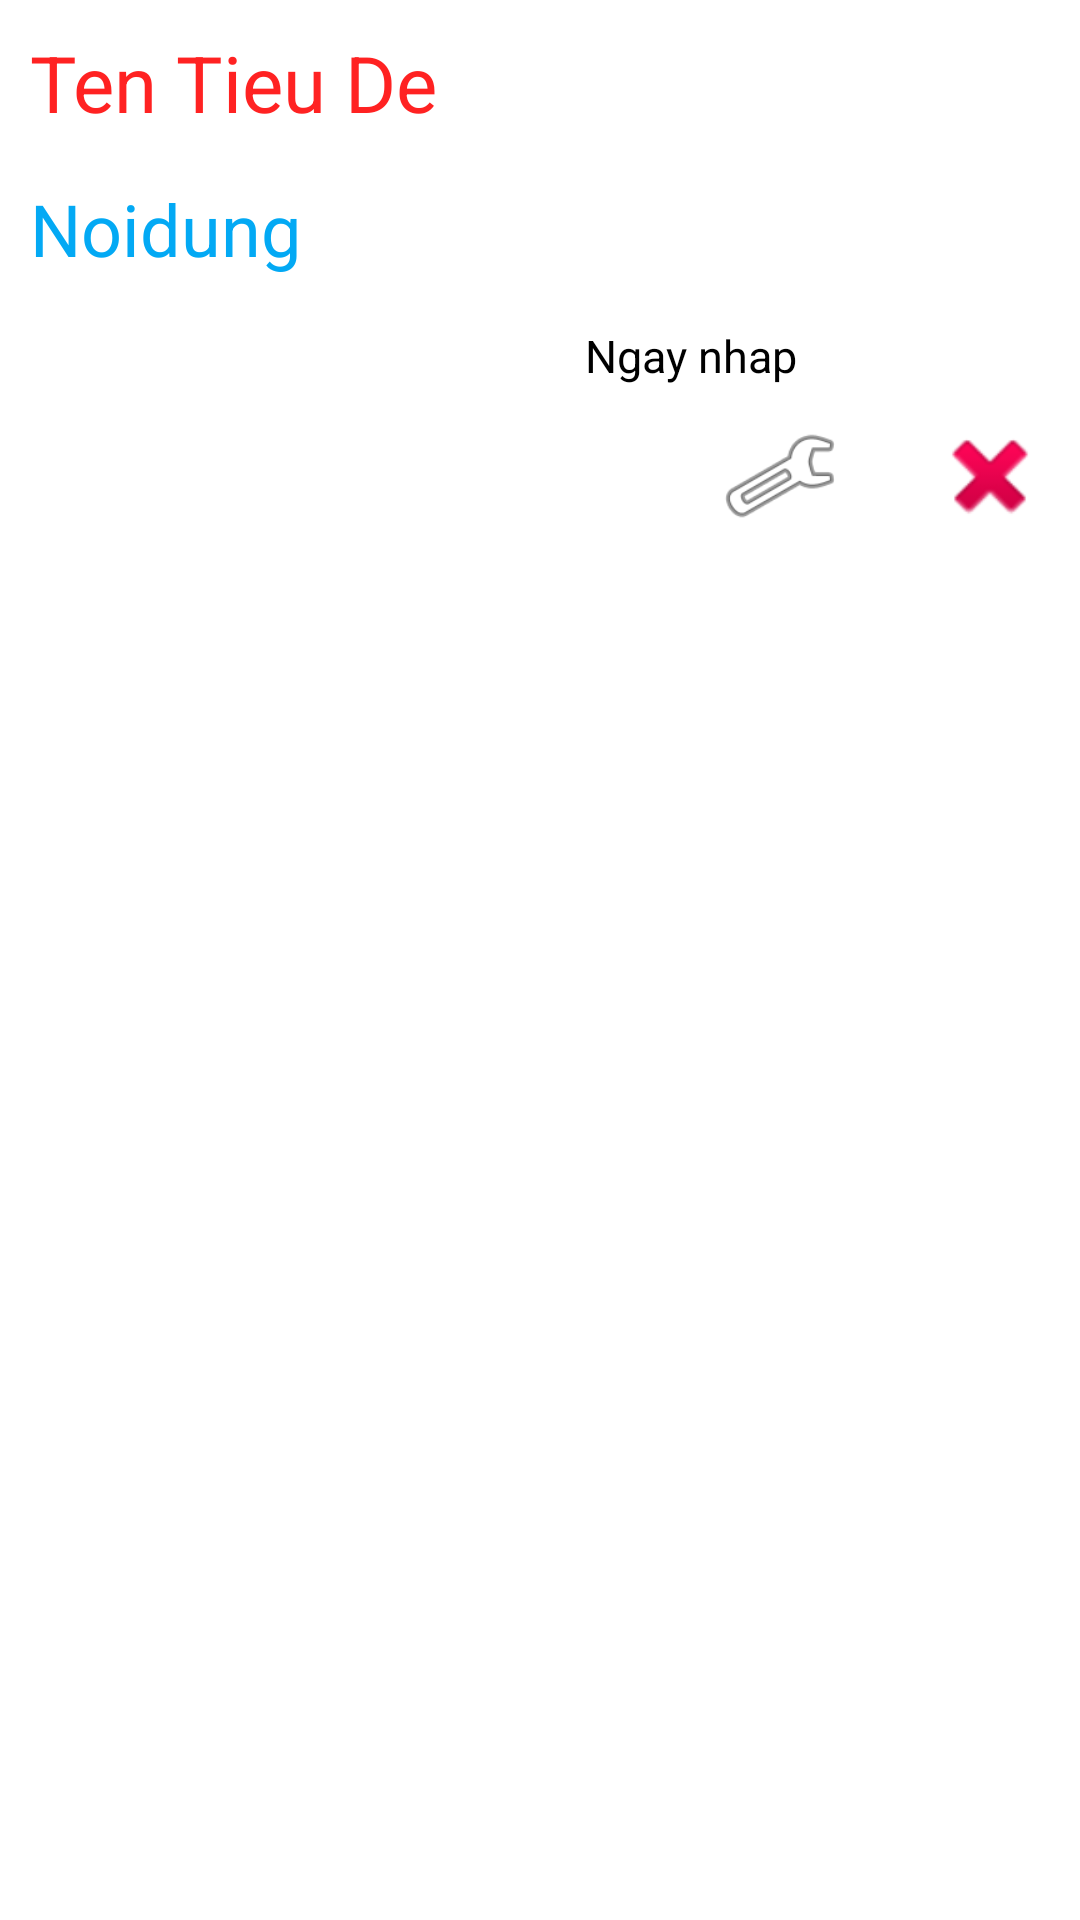

Locate icon controls on the screen. Image size 1080w x 1920h, boxes as Rect(x1, y1, x2, y2).
delete: Rect(952, 440, 1028, 514)
manage: Rect(726, 435, 834, 517)
